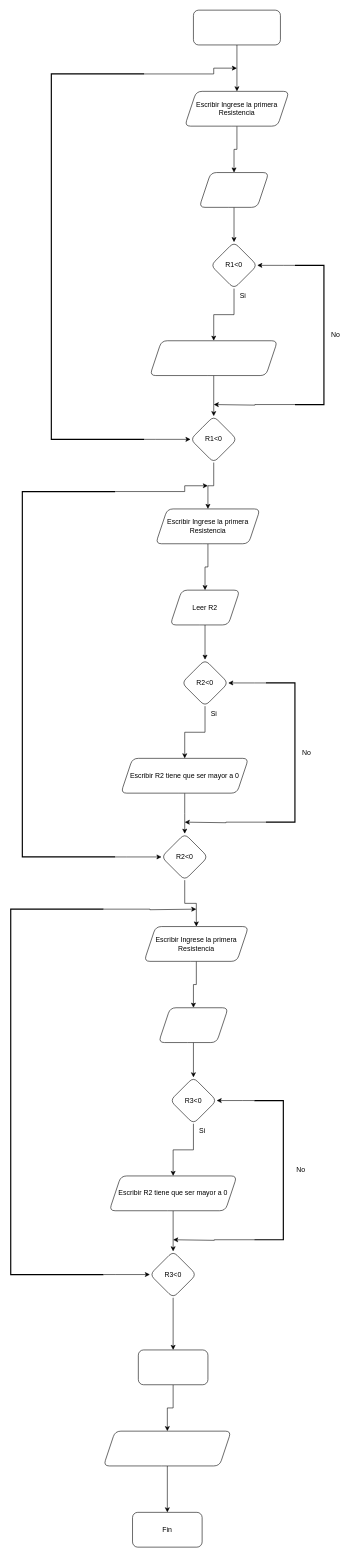
Image size: 357x1557. Some labels were removed from this diagram. Here are the shapes that lost their labels. From the top down, the centre of each, then its label:
At [236,27]: "Inicio".
At [234,189]: "Leer R1".
At [213,358]: "Escribir R1 tiene que ser mayor a 0".
At [193,1025]: "Leer R3".
At [173,1367]: "Resultado = 1/((1/R1) + (1/R2) + (1/R3))".
At [167,1448]: "Escribir La Resistencia total es de Resultado".
